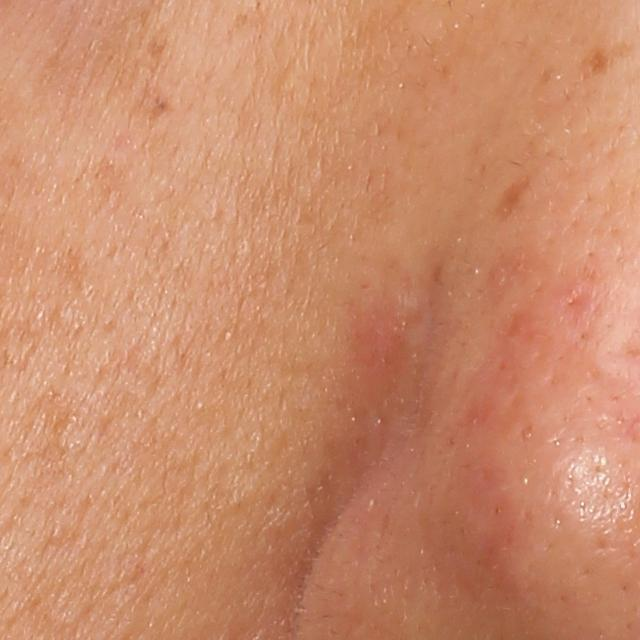melasma: (68, 147, 139, 227), (486, 168, 540, 233), (579, 43, 632, 82)
